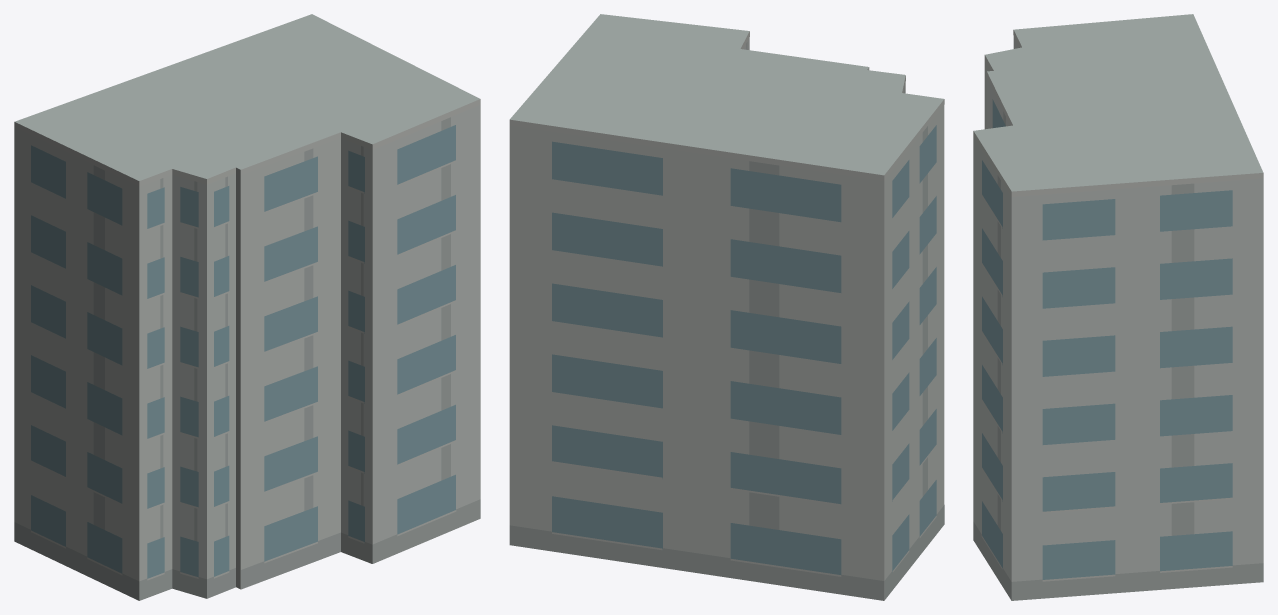
File: survey-upis-33019289.glb
3 renders of one model, left to right at view 1: azimuth 30°, elevation 25°; view 2: azimuth 150°, elevation 25°; view 3: azimuth 270°, elevation 25°, orthographic. The views are drawn at different scales.
Parts seen in each view (by area): view 1: survey-upis-33019289.tmp; view 2: survey-upis-33019289.tmp; view 3: survey-upis-33019289.tmp.
Boxes of the visible parts, bbox=[...] form: survey-upis-33019289.tmp: bbox=[14, 14, 480, 600]; survey-upis-33019289.tmp: bbox=[509, 14, 944, 600]; survey-upis-33019289.tmp: bbox=[973, 14, 1263, 600].
Bounding box in the file's own units: 16.56 × 17.8 × 11.44.
